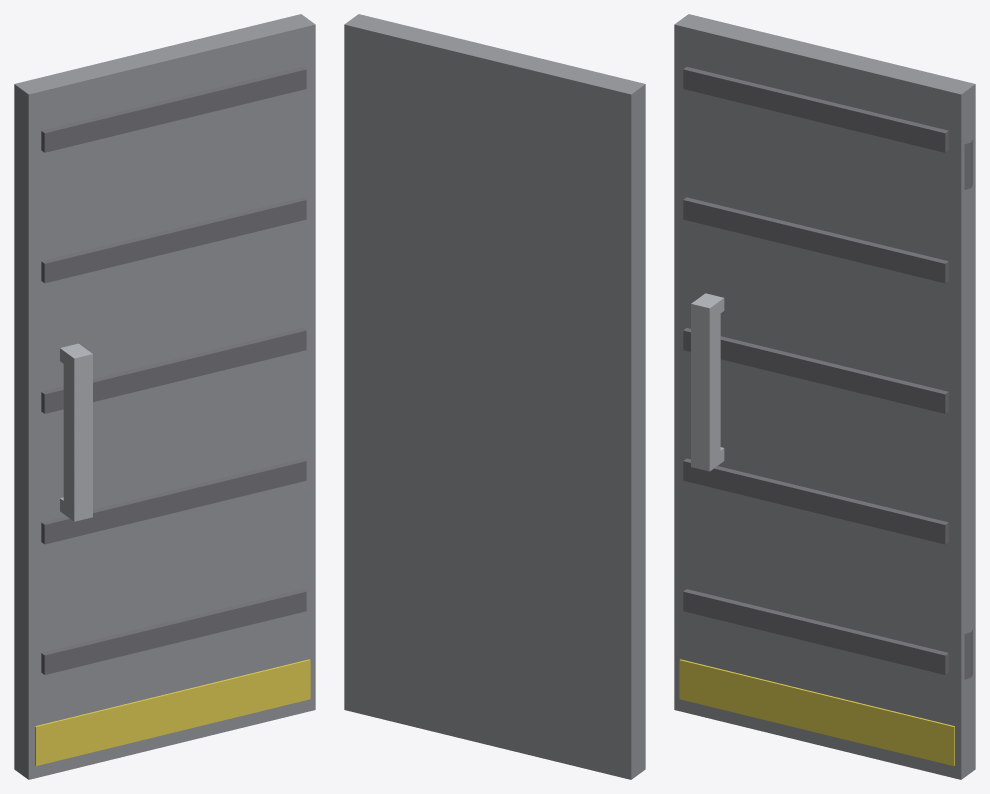
File: RoomDoor_core.fbx
3 renders of one model, left to right at view 1: azimuth 30°, elevation 25°; view 2: azimuth 150°, elevation 25°; view 3: azimuth 330°, elevation 25°, orthographic.
Visible parts, largest first — view 1: RoomDoor_core; view 2: RoomDoor_core; view 3: RoomDoor_core.
Boxes of the visible parts, bbox=[...] form: RoomDoor_core: bbox=[14, 14, 315, 779]; RoomDoor_core: bbox=[344, 14, 645, 779]; RoomDoor_core: bbox=[674, 14, 975, 779].
Bounding box in the file's own units: 0.93 × 2.1 × 0.16.
